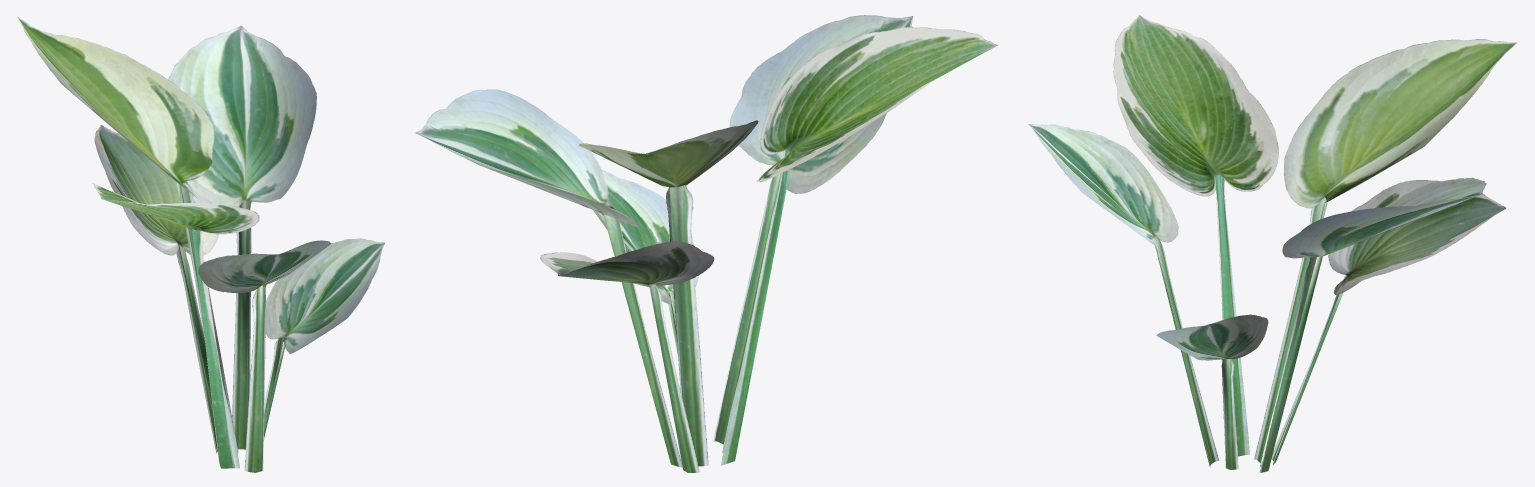
Rendered from plant_small_wg_00O_wild.fbx.
3 views of the same model, side by side, from view 1: azimuth 30°, elevation 25°; view 2: azimuth 150°, elevation 25°; view 3: azimuth 270°, elevation 25° (orthographic). The views are drawn at different scales.
Parts seen in each view (by area): view 1: plant_small_wg_00O_wild; view 2: plant_small_wg_00O_wild; view 3: plant_small_wg_00O_wild.
Boxes of the visible parts, x1,y1,x2,y2 form: plant_small_wg_00O_wild: [17, 17, 384, 472]; plant_small_wg_00O_wild: [415, 15, 997, 472]; plant_small_wg_00O_wild: [1028, 15, 1517, 472].
Size of the model in its own units: 39.02 by 42.96 by 50.61.
